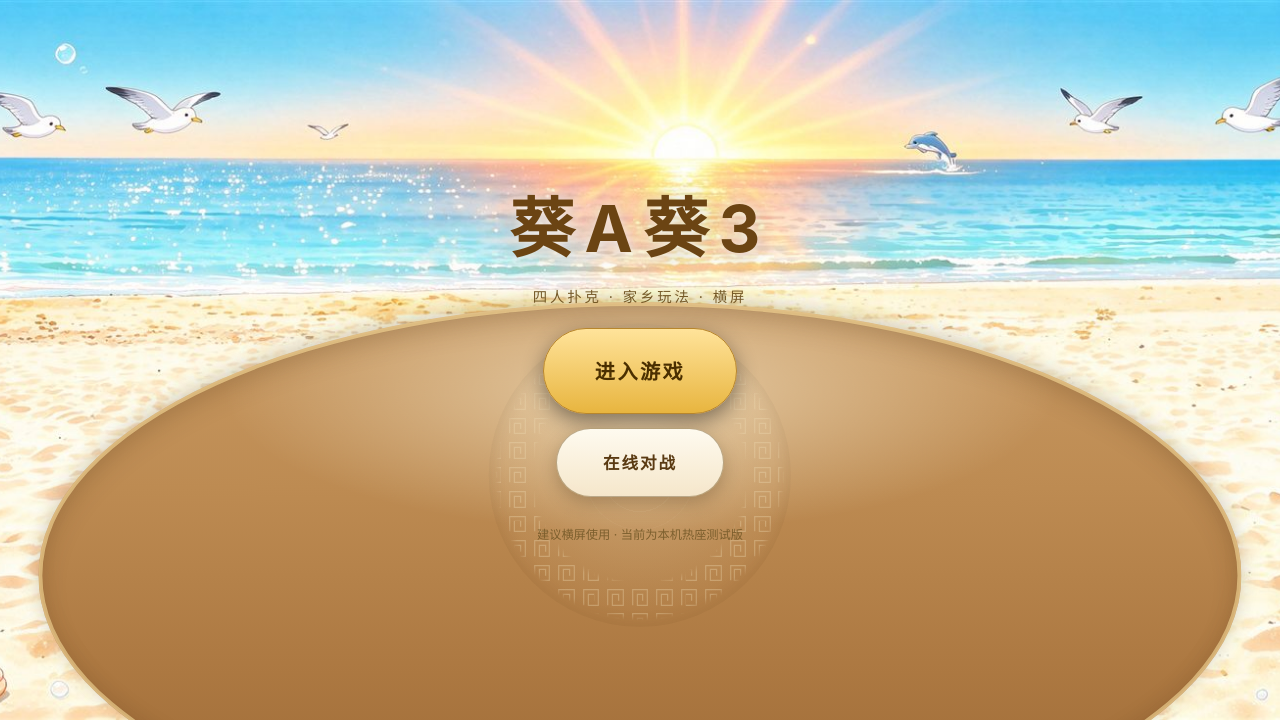
Test case: M2 横屏界面（jsdom） › 操作条文案：领出时只有 提示 / 出牌 / 清空（不显示「不出」）
Click the button "进入游戏".
click(640, 371)  # box [543,328,737,414]
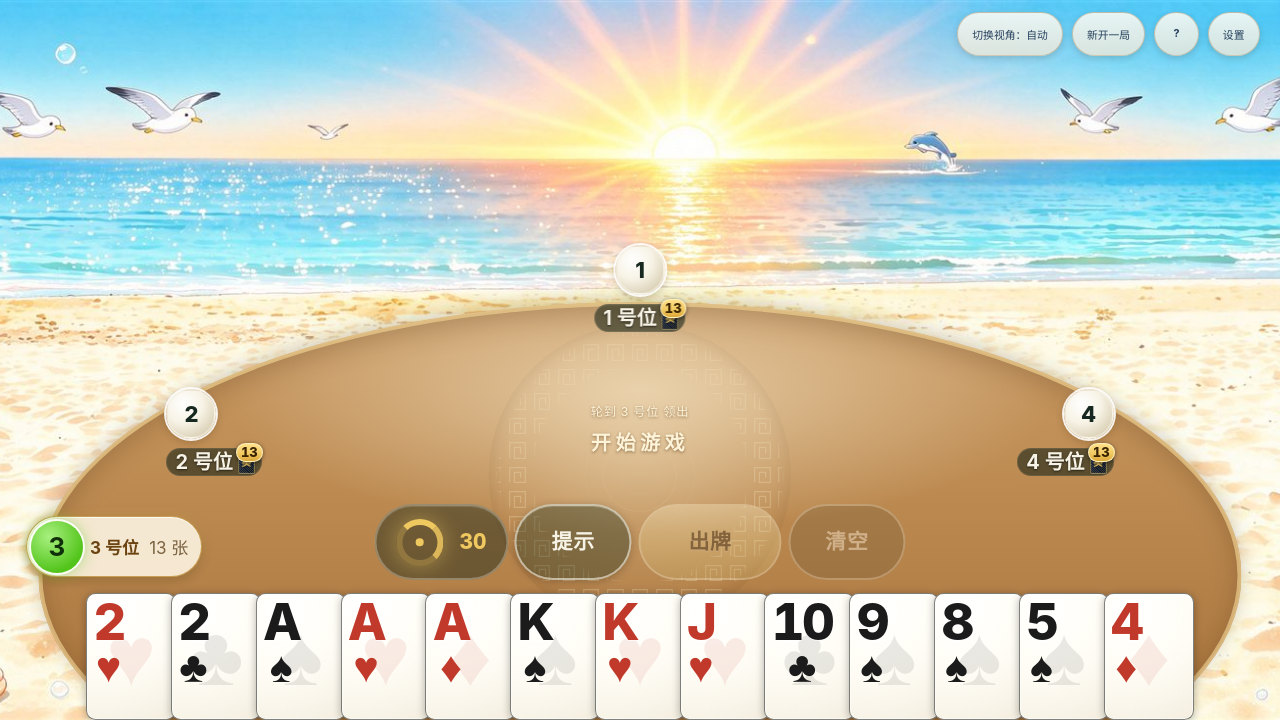
Expected: the button "提示" is shown, [515,504,632,580]
Expected: the button "清空" is shown, [788,504,906,580]
